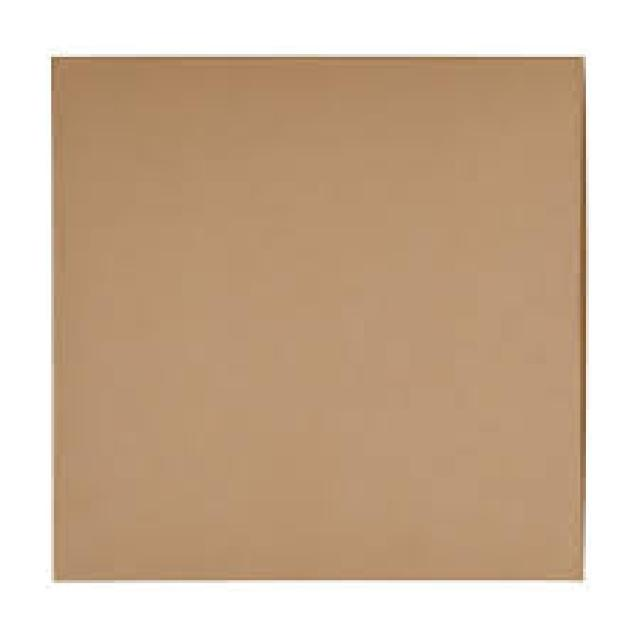cardboard: (48, 51, 583, 580)
